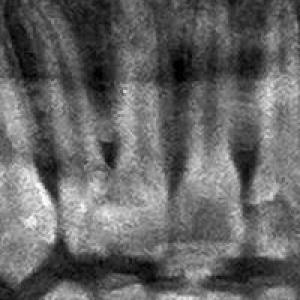tooth: (17, 0, 126, 266), (0, 15, 62, 294), (179, 2, 245, 260), (109, 0, 173, 264), (252, 0, 300, 266)
